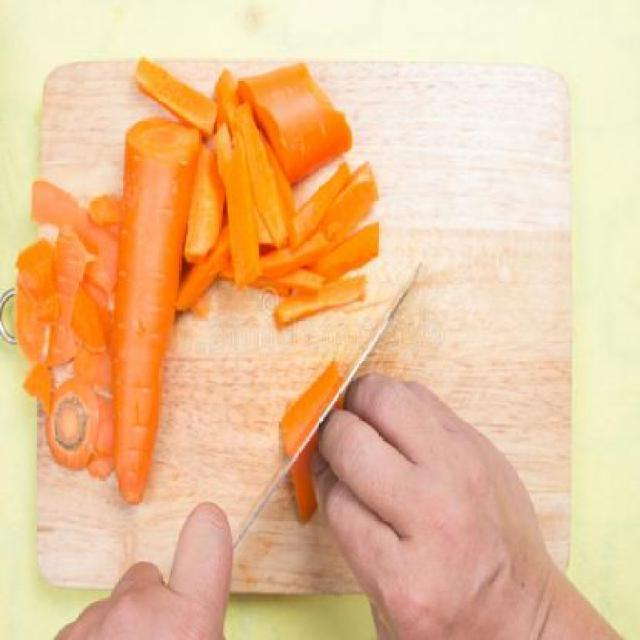carrot: (102, 117, 199, 510)
